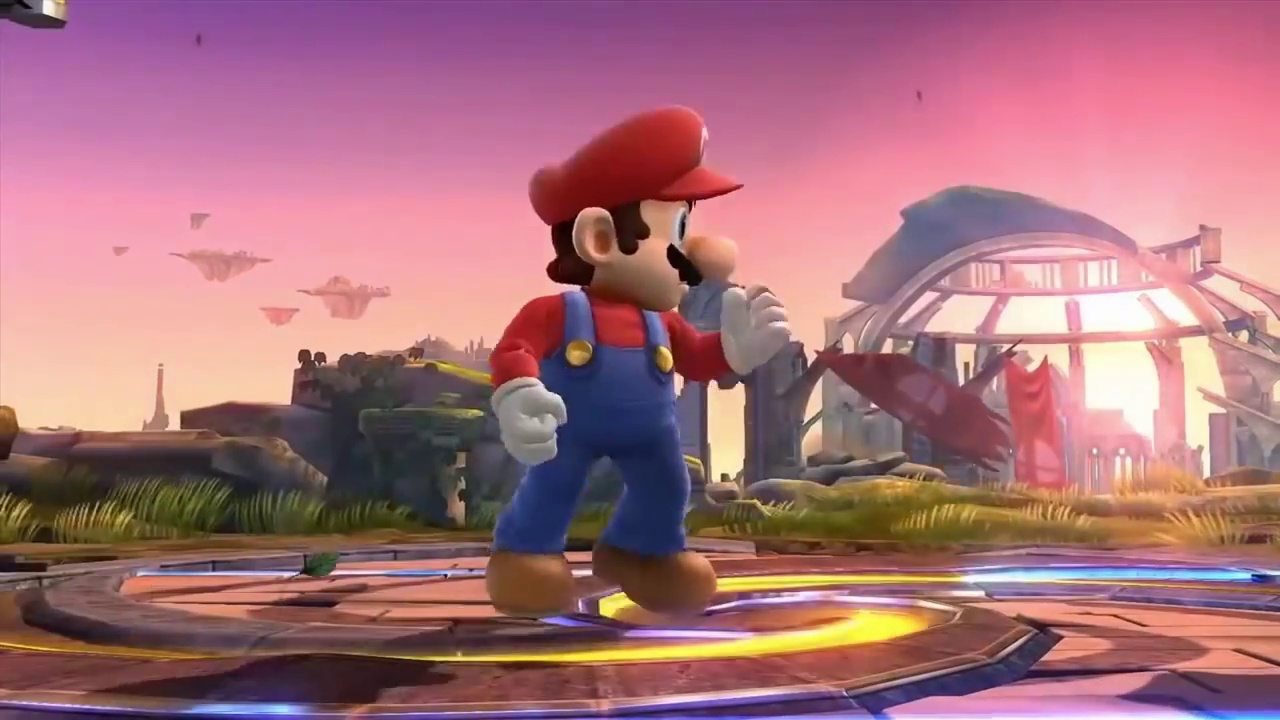Mario: (485, 104, 791, 608)
